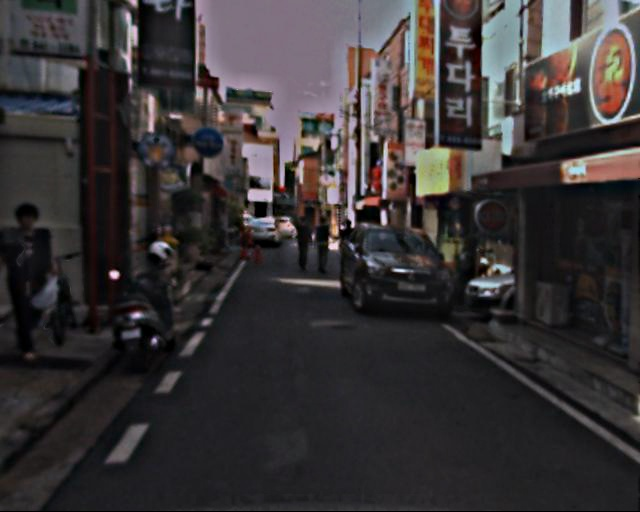person: (311, 216, 334, 272), (336, 219, 358, 273), (293, 218, 314, 268)
